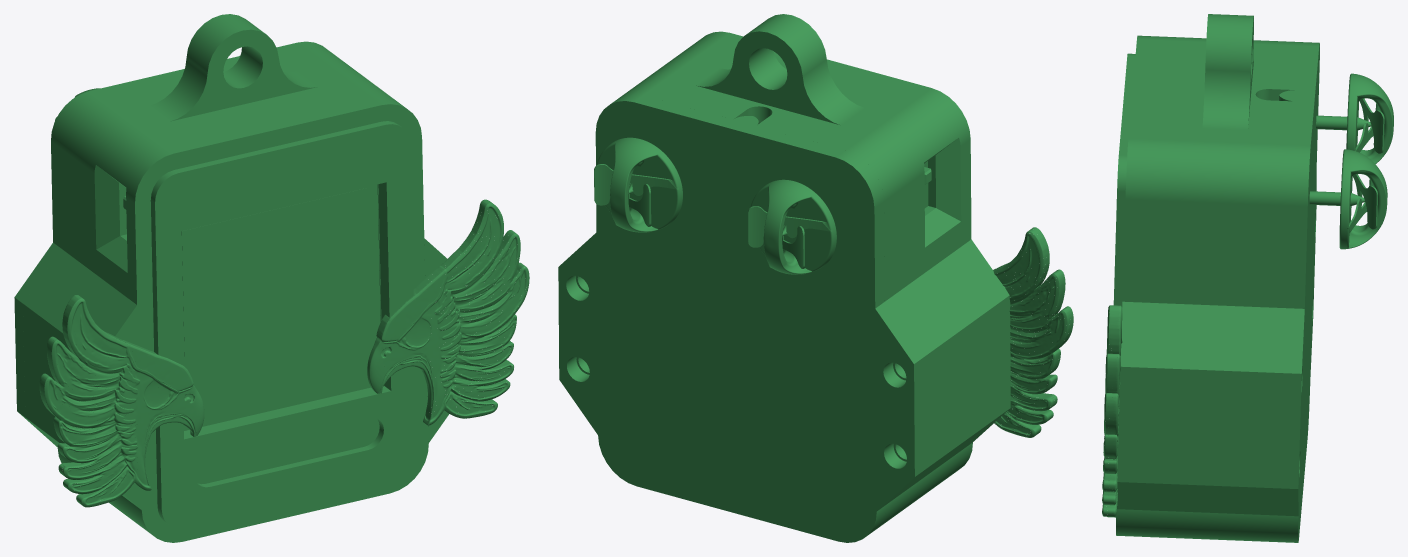
Rendered from project_ganci.glb.
3 renders of one model, left to right at view 1: azimuth 30°, elevation 25°; view 2: azimuth 150°, elevation 25°; view 3: azimuth 270°, elevation 25°, orthographic.
Parts seen in each view (by area): view 1: Copy_of_Part8^Assem1_Project_Ganci-1, 13_TFT_IPS_-_Flush_Reverse_Mountstp-1, Elang-1, ELANGMIRROR-1, BACK_COVER_GANCI-1; view 2: BACK_COVER_GANCI-1, Copy_of_Part8^Assem1_Project_Ganci-1, Elang-1, ButterflyLock-3, ButterflyLock-2; view 3: Copy_of_Part8^Assem1_Project_Ganci-1, ELANGMIRROR-1, BACK_COVER_GANCI-1, ButterflyLock-3, ButterflyLock-2, Part11^Project_Ganci-2, Part11^Project_Ganci-1.
Boxes of the visible parts, x1,y1,x2,y2 form: Copy_of_Part8^Assem1_Project_Ganci-1: (59,14,428,542); 13_TFT_IPS_-_Flush_Reverse_Mountstp-1: (179,184,381,430); Elang-1: (23,249,204,509); ELANGMIRROR-1: (367,199,529,442); BACK_COVER_GANCI-1: (14,41,329,463); BACK_COVER_GANCI-1: (558,94,924,542); Copy_of_Part8^Assem1_Project_Ganci-1: (620,14,972,529); Elang-1: (885,227,1073,503); ButterflyLock-3: (594,137,682,232); ButterflyLock-2: (748,179,836,274); Copy_of_Part8^Assem1_Project_Ganci-1: (1108,14,1301,542); ELANGMIRROR-1: (1102,301,1286,516); BACK_COVER_GANCI-1: (1279,42,1319,542); ButterflyLock-3: (1339,149,1387,249); ButterflyLock-2: (1346,73,1393,163); Part11^Project_Ganci-2: (1309,191,1365,206); Part11^Project_Ganci-1: (1316,115,1371,130).
Bounding box in the file's own units: 0.0612 × 0.0567 × 0.032.
